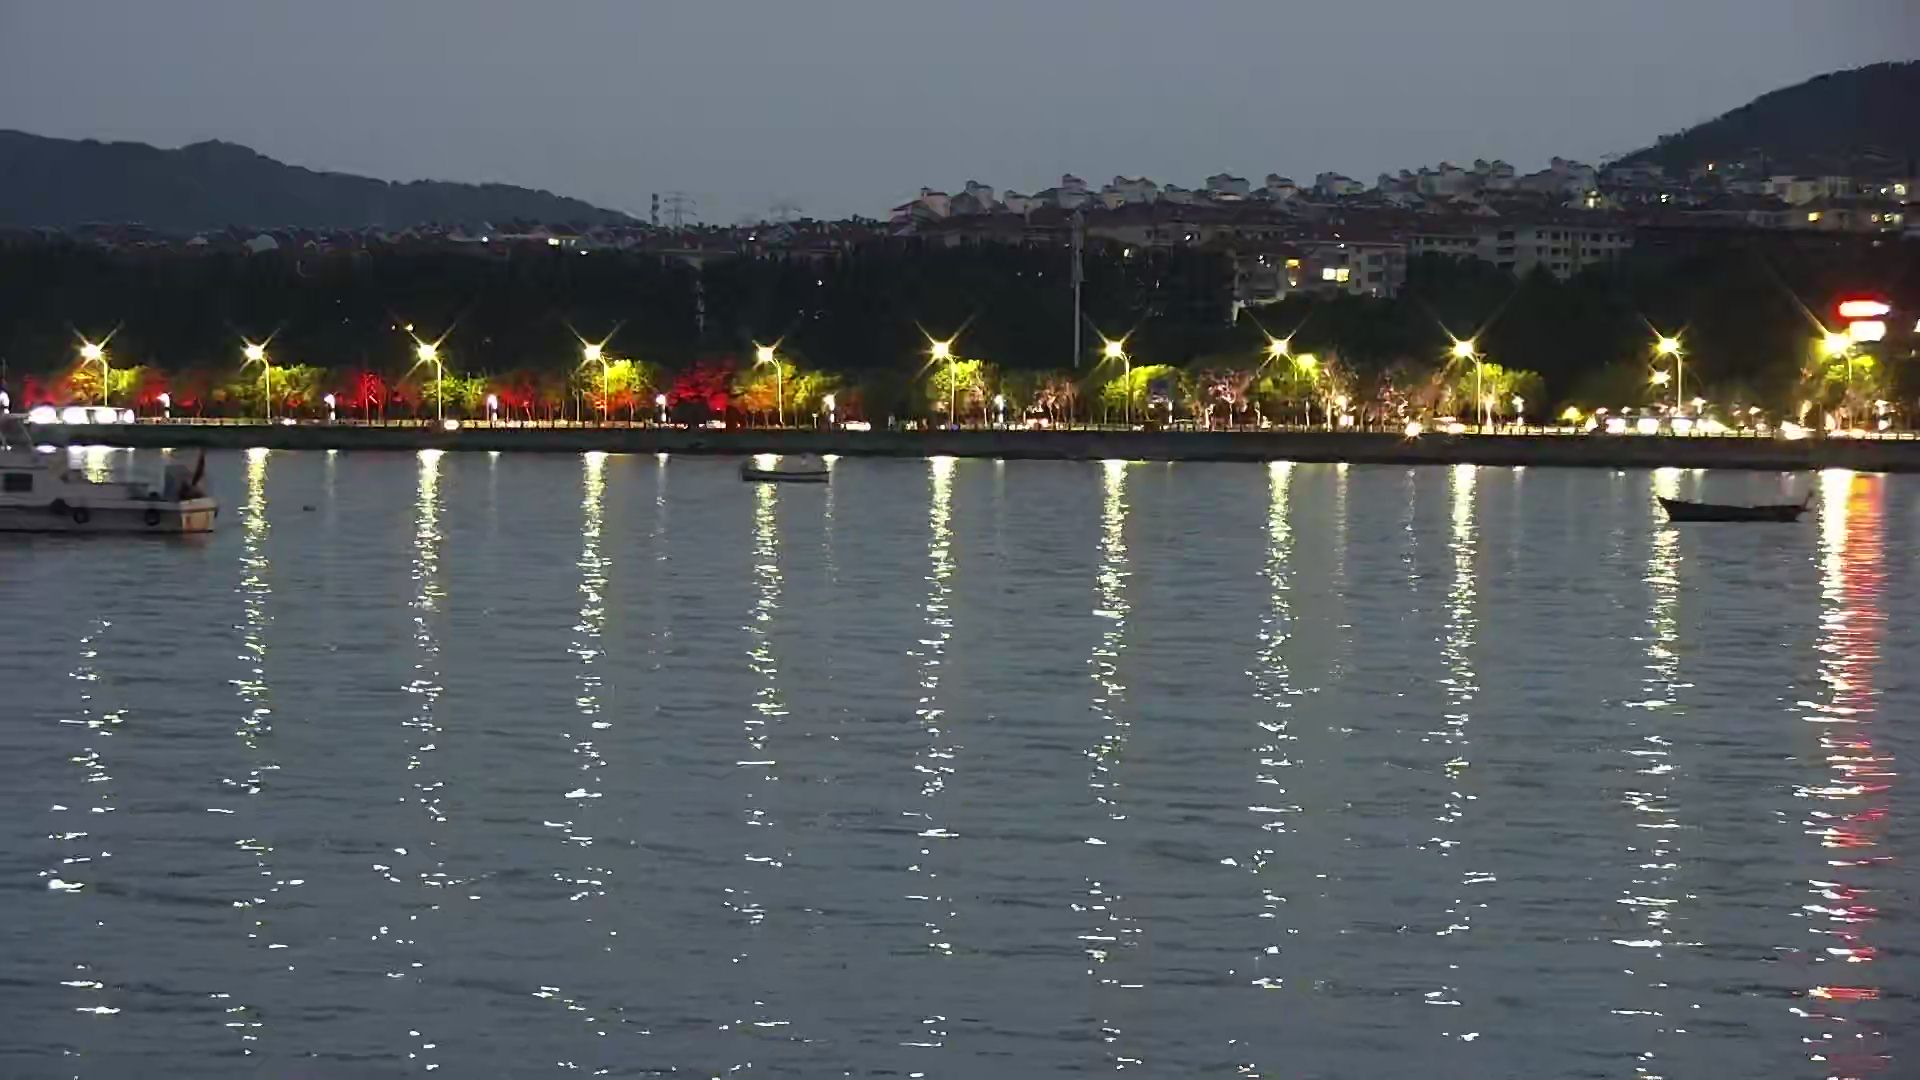boat: (1651, 481, 1818, 533), (736, 459, 843, 495)
ship: (1, 448, 256, 551)
